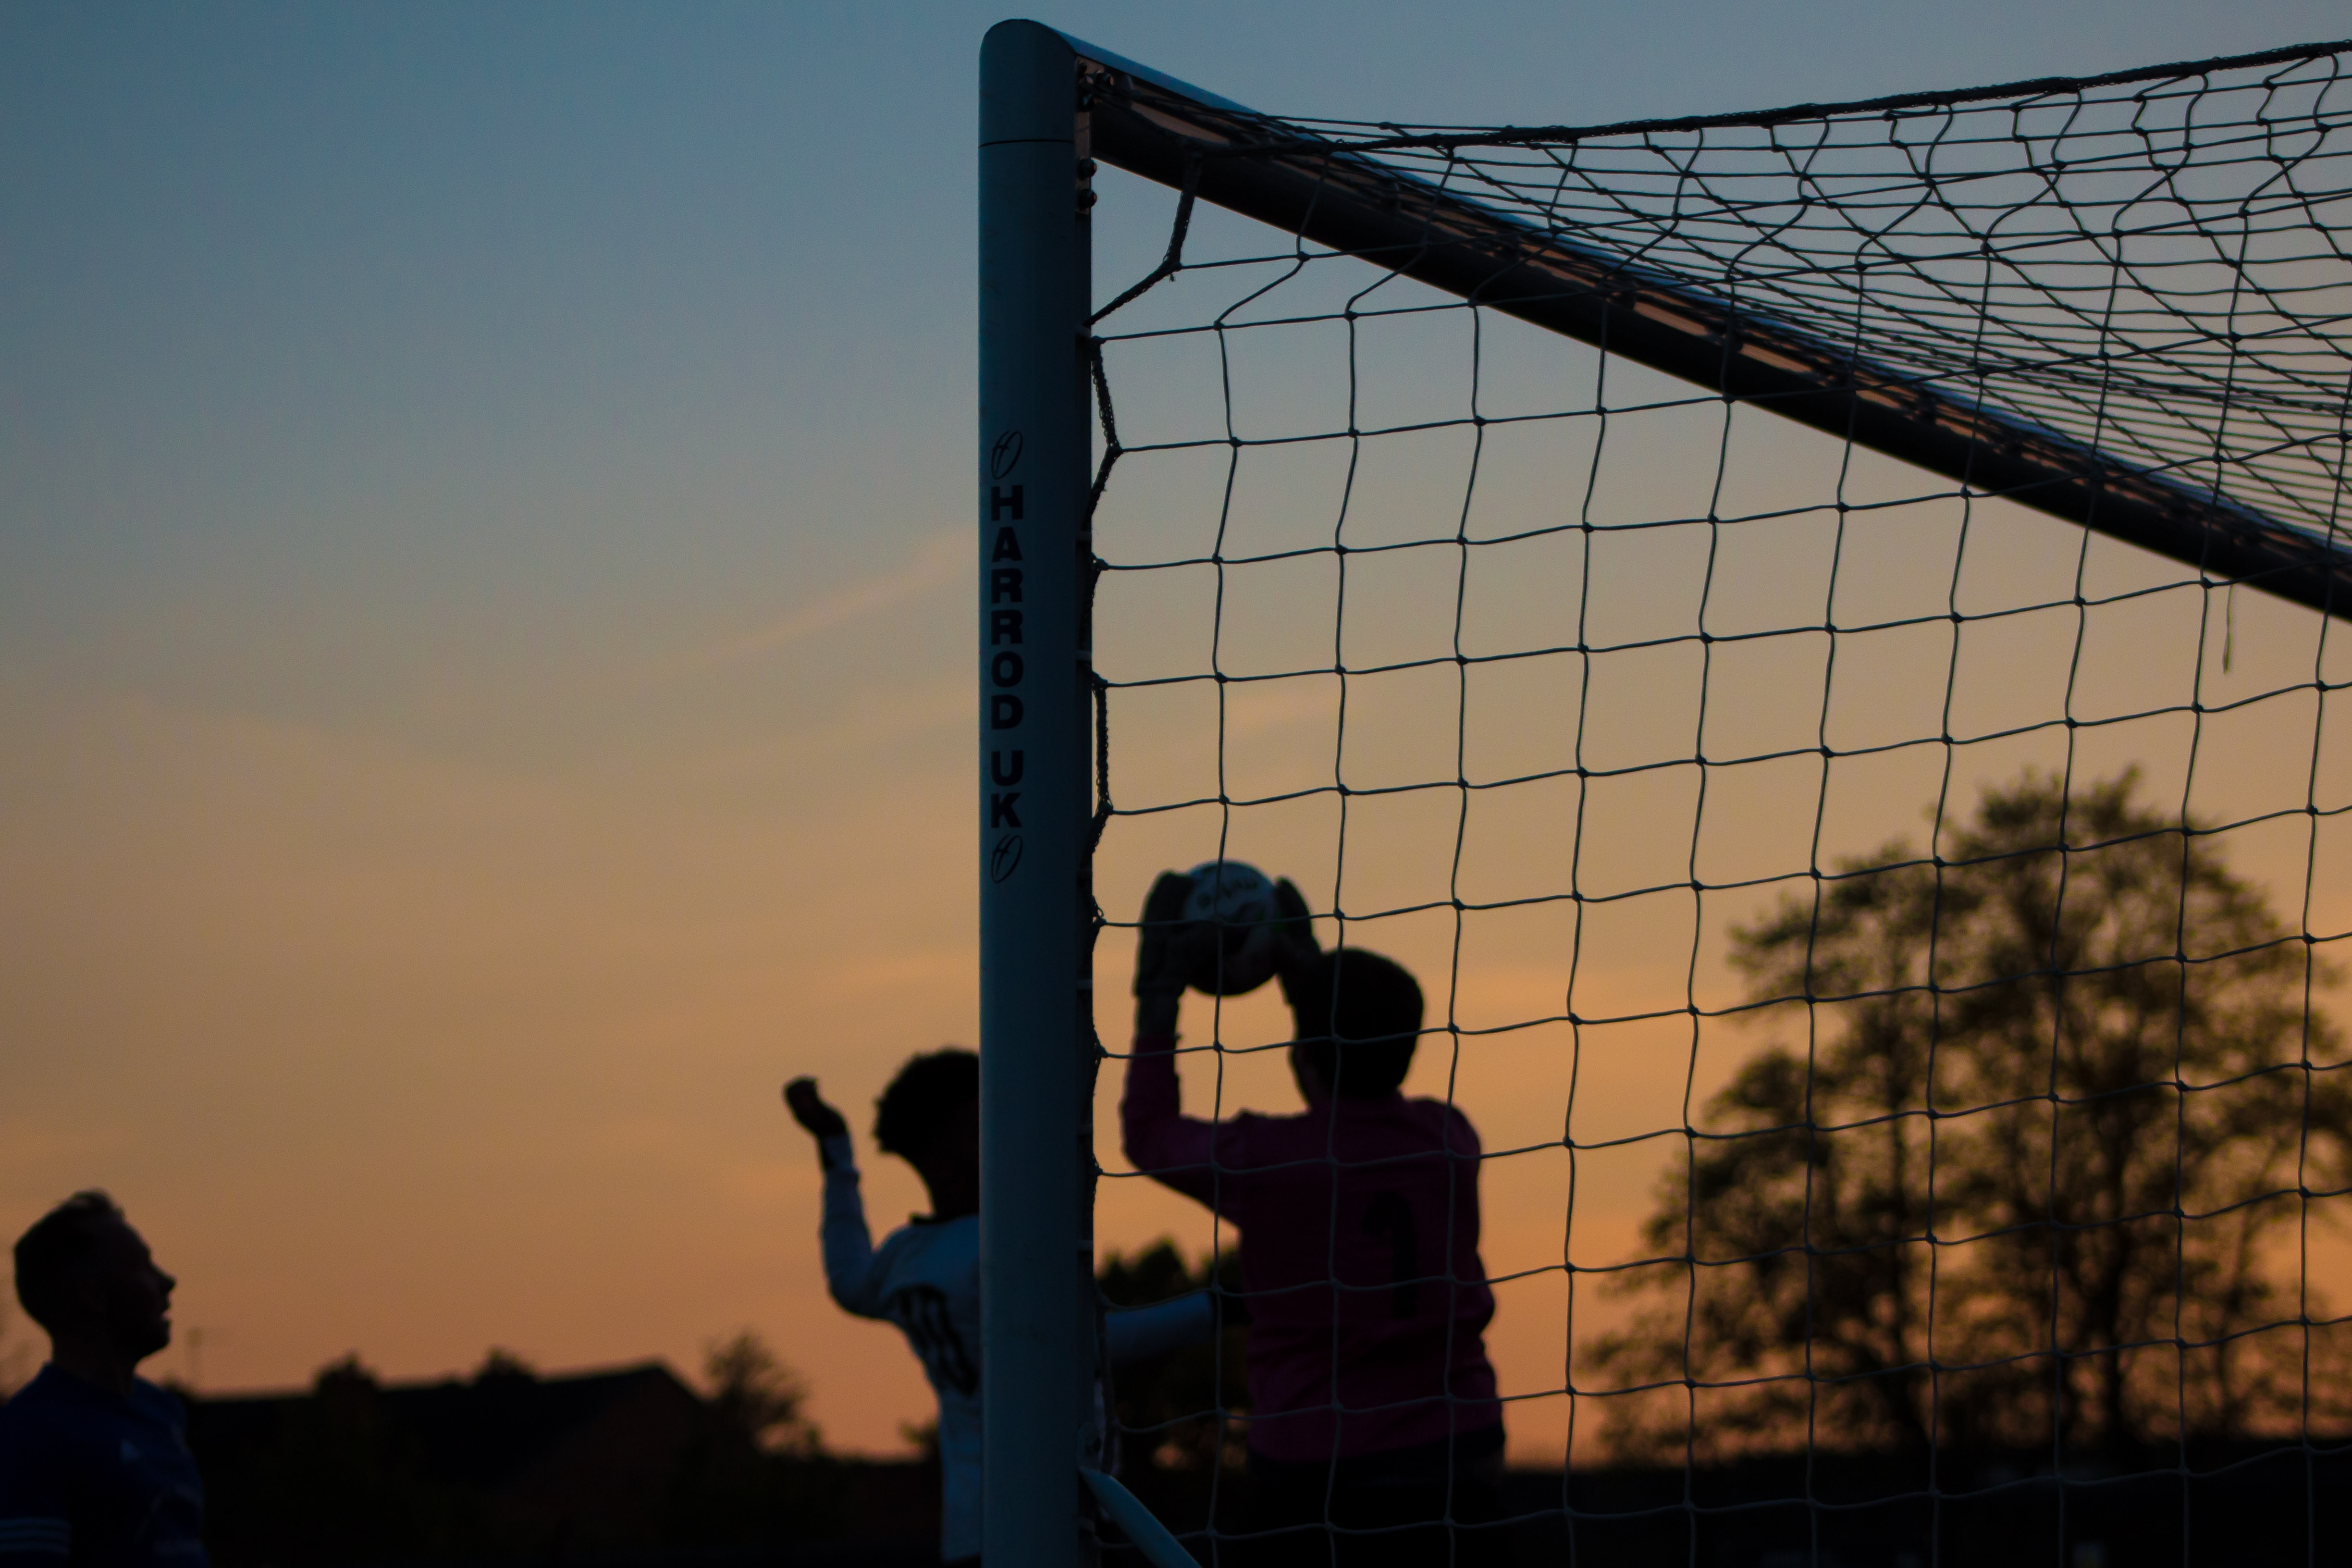player: (1132, 853, 1550, 1536), (721, 957, 1120, 1548), (14, 1151, 280, 1568)
soccer ball: (1151, 853, 1307, 1012)
